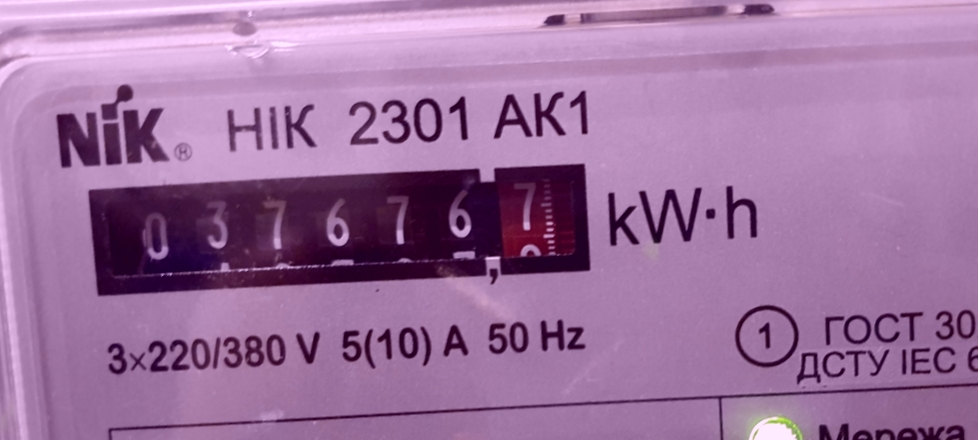0: (138, 206, 175, 263)
3: (201, 194, 232, 252)
6: (320, 192, 355, 248), (443, 184, 476, 241)
7: (382, 190, 416, 250), (259, 194, 293, 252), (511, 177, 542, 234)
screen: (72, 141, 609, 319)
